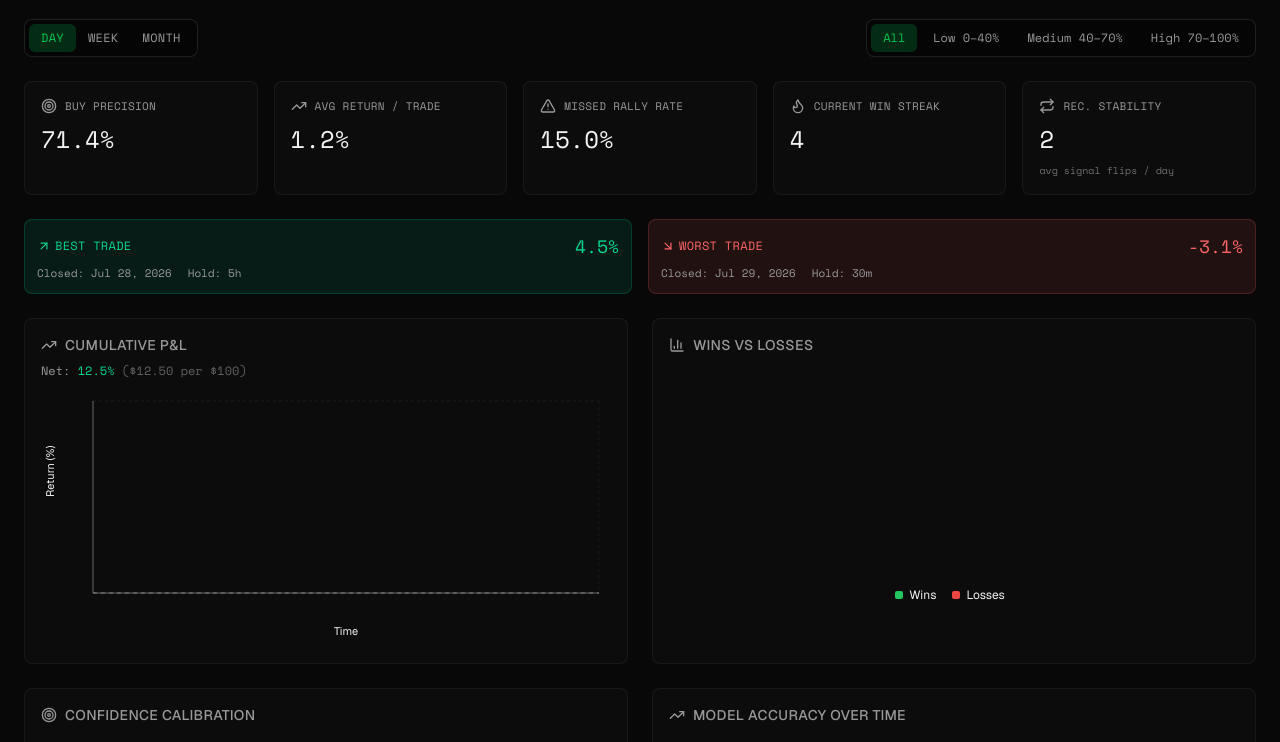
Test: PerformanceDashboard – period toggle › re-queries the API with the new period param and updates table content
The image size is (1280, 742).
Click the button with test id "toggle-period-week" at x=103, y=38, box [76, 24, 130, 52]
(page scrolled)
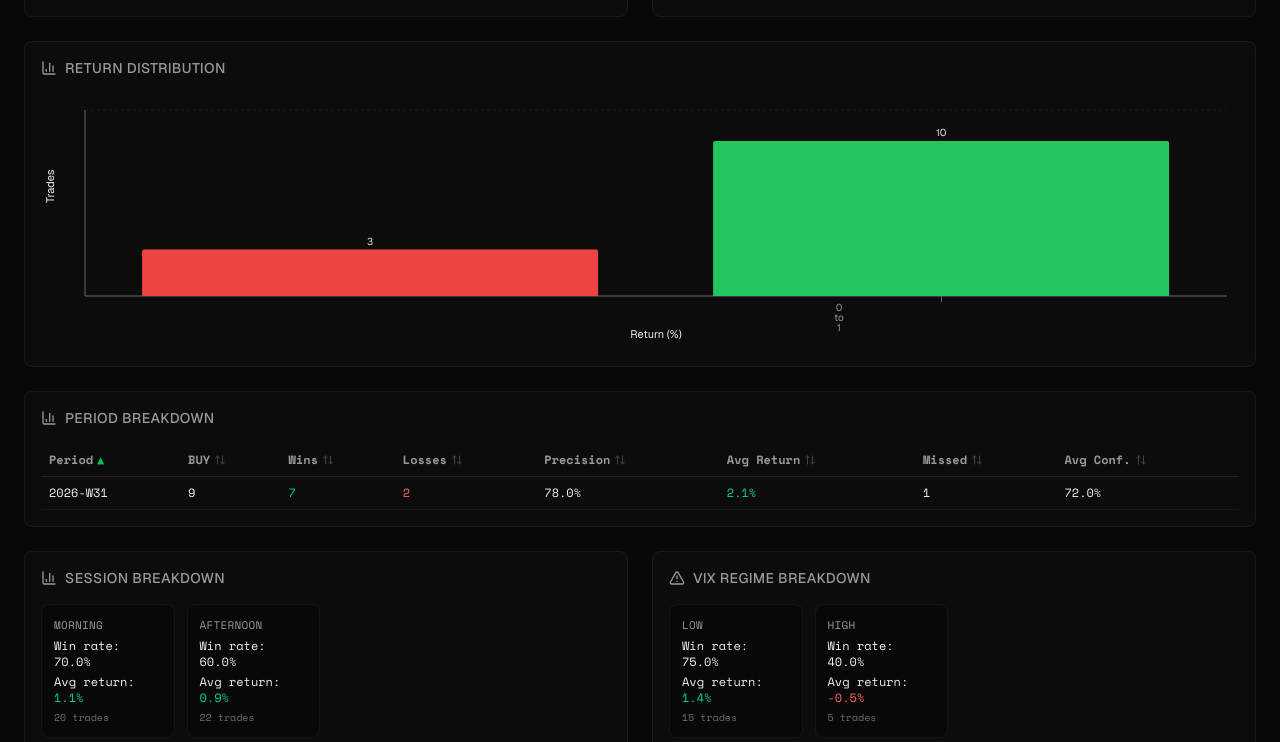
expect the table with test id "table-periods" shows "2026-W31": met, box [49, 484, 108, 501]
